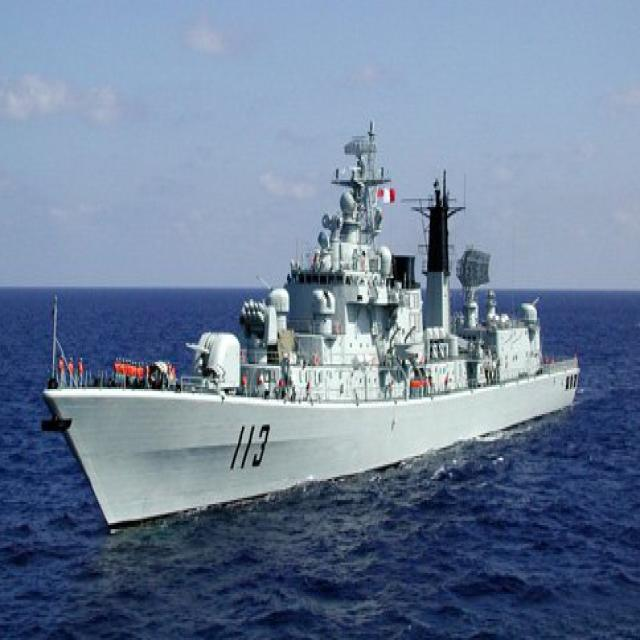navalvessels: (41, 100, 594, 527)
